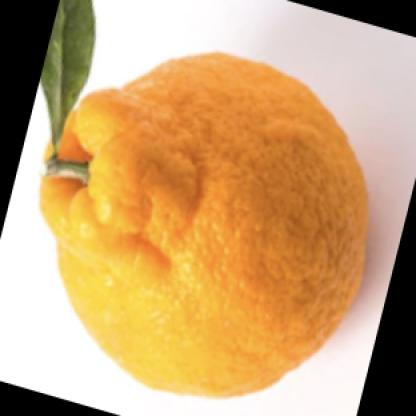fresh: (43, 53, 370, 394)
